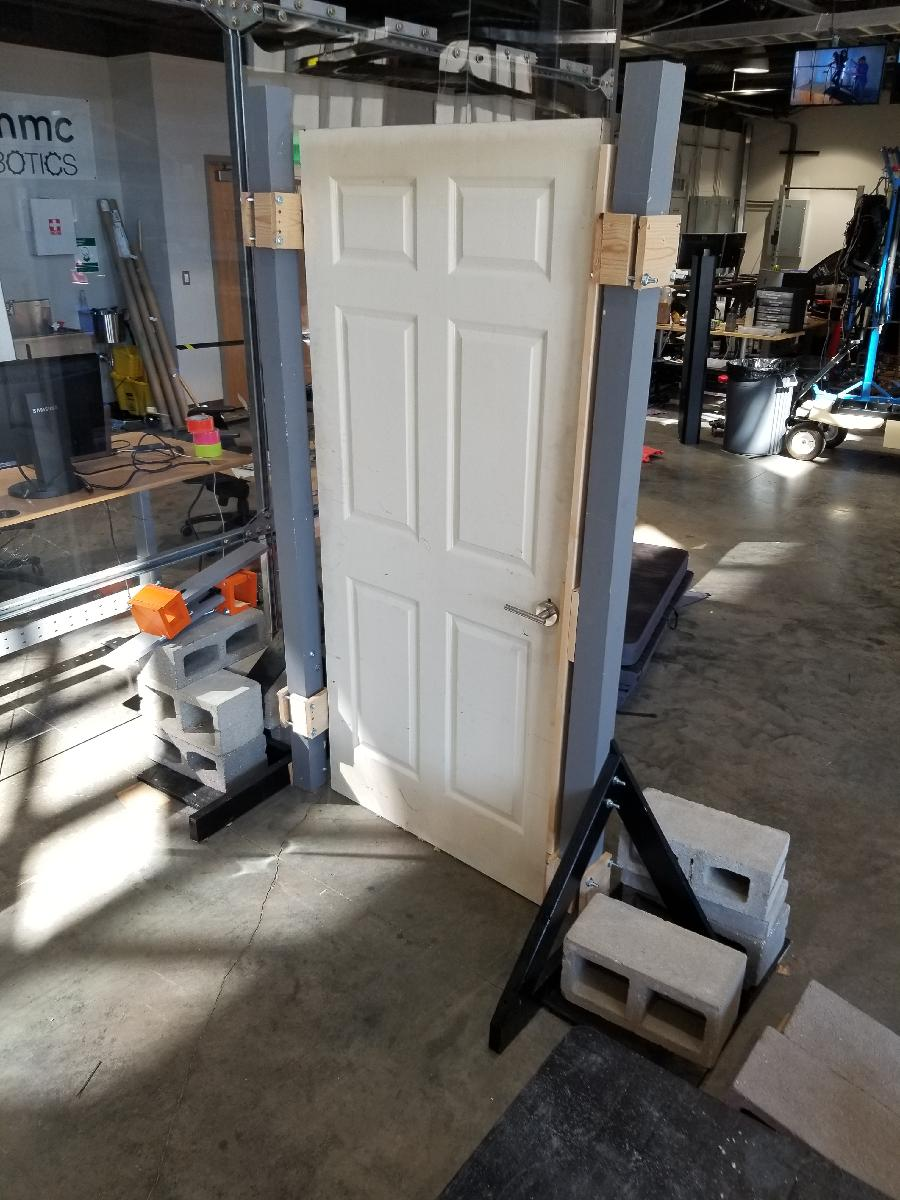door: (294, 113, 616, 929)
doorHandle: (502, 593, 559, 638)
